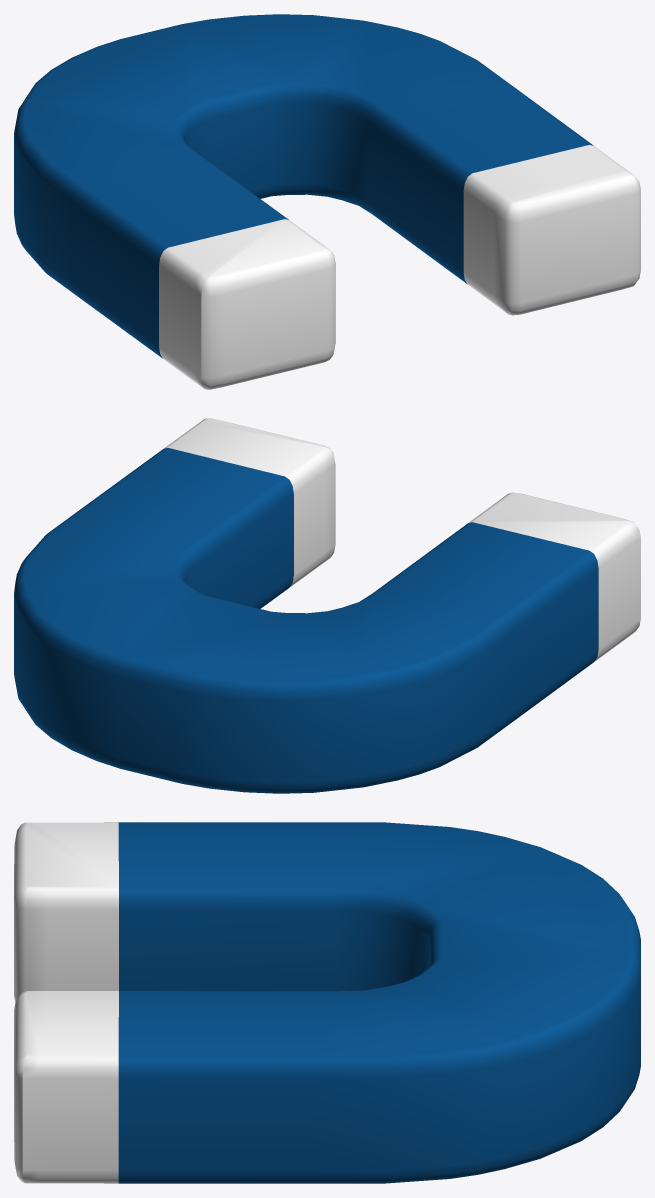
Rendered from Magnet_2.fbx.
3 renders of one model, top to bottom at view 1: azimuth 30°, elevation 25°; view 2: azimuth 150°, elevation 25°; view 3: azimuth 270°, elevation 25°, orthographic. The views are drawn at different scales.
Parts seen in each view (by area): view 1: Magnet_2; view 2: Magnet_2; view 3: Magnet_2.
Boxes of the visible parts, x1=… form: Magnet_2: x1=14, y1=14, x2=640, y2=389; Magnet_2: x1=14, y1=418, x2=640, y2=793; Magnet_2: x1=14, y1=822, x2=640, y2=1183.
Bounding box in the file's own units: 0.2244 × 0.0548 × 0.2441.
